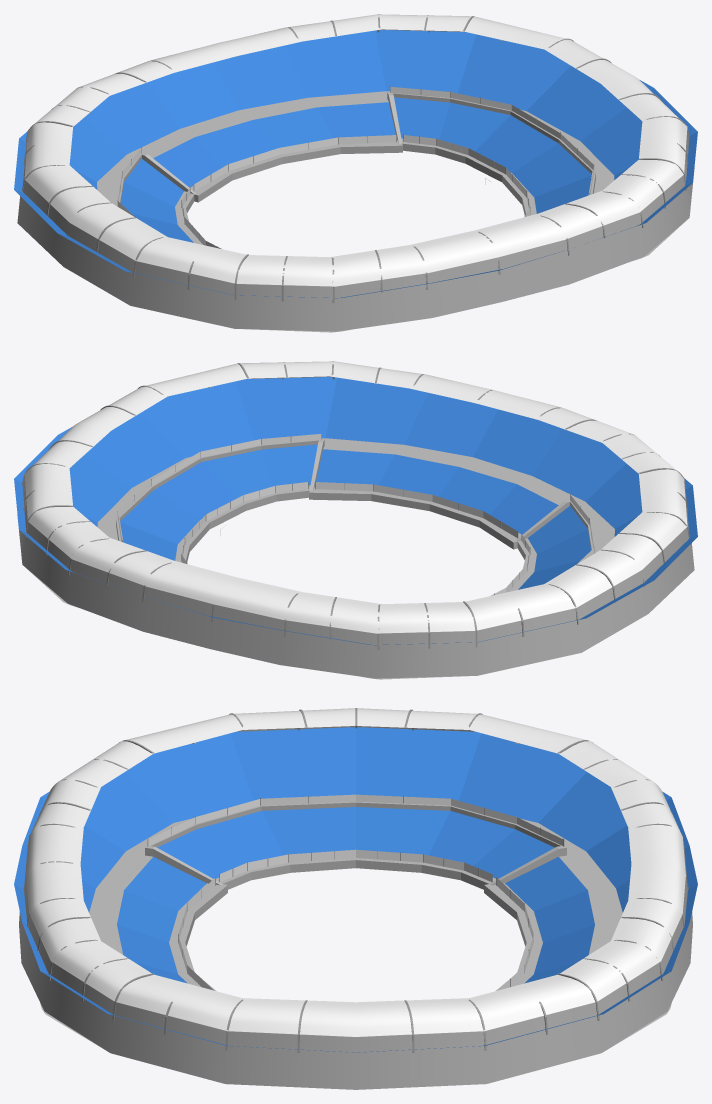
The model's file is Campo_v16.fbx.
The picture shows the model from 3 angles, top to bottom: view 1: azimuth 30°, elevation 25°; view 2: azimuth 150°, elevation 25°; view 3: azimuth 270°, elevation 25°; orthographic projection. The views are drawn at different scales.
Parts seen in each view (by area): view 1: Stands.001; view 2: Stands.001; view 3: Stands.001.
Boxes of the visible parts, x1,y1,x2,y2 form: Stands.001: (14, 14, 697, 332); Stands.001: (14, 361, 697, 679); Stands.001: (14, 708, 697, 1089).
Size of the model in its own units: 8336 by 1056 by 7152.
